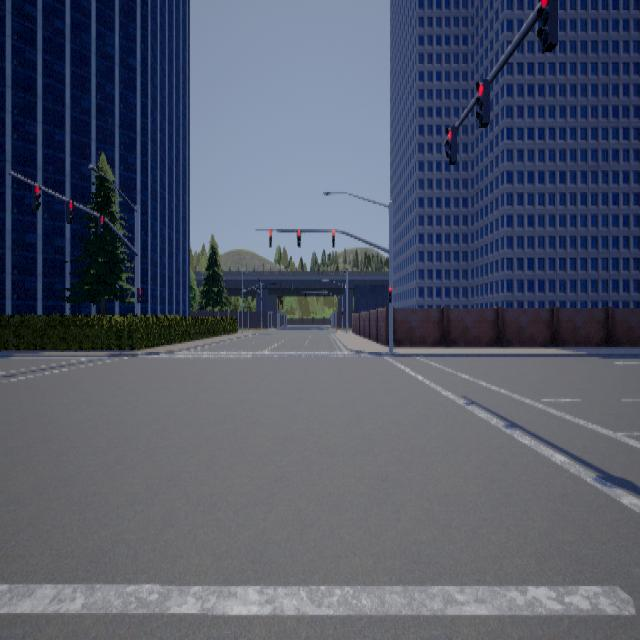red_light: (536, 0, 557, 52), (475, 77, 489, 126), (445, 125, 456, 163), (31, 183, 40, 209), (65, 199, 73, 222), (97, 214, 104, 234), (388, 284, 392, 302), (297, 230, 301, 247), (268, 230, 272, 247), (332, 230, 335, 247)
